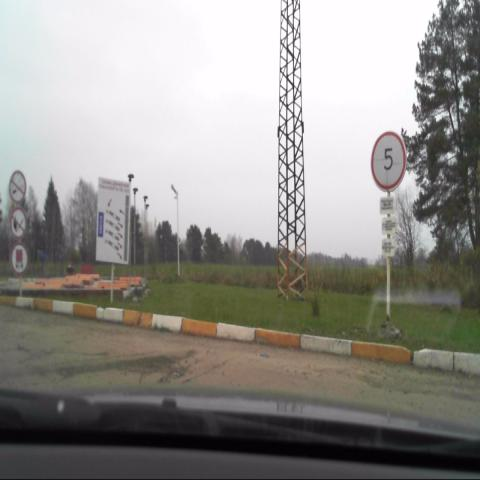3_32: (11, 244, 27, 277)
